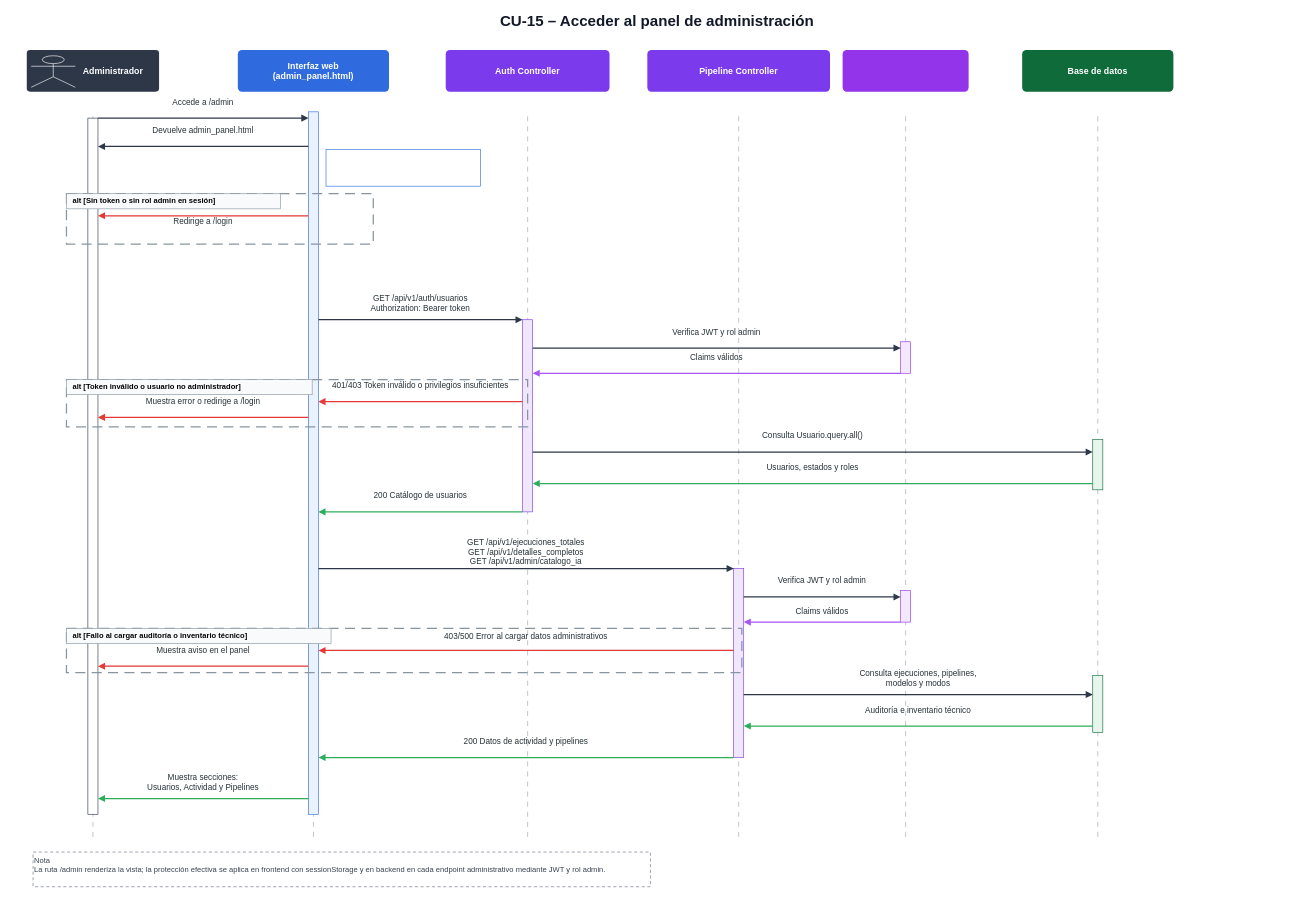
The diagram is 1313 pixels wide and 898 high, and some of its shapes have lost their labels. The centre of each missing label's shape, as x and y in pixels:
"Comprueba jwt_token y roles en sessionStorage" belongs at (402,167).
"Servicio JWT" belongs at (905,70).
